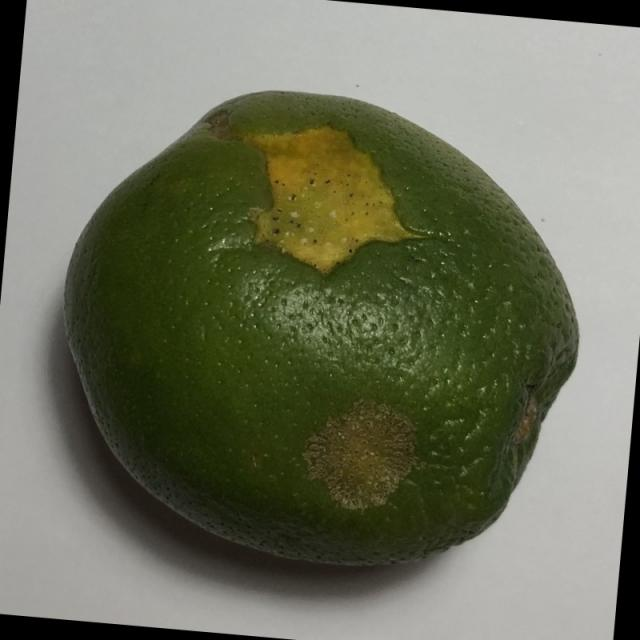canker: (40, 74, 603, 609)
